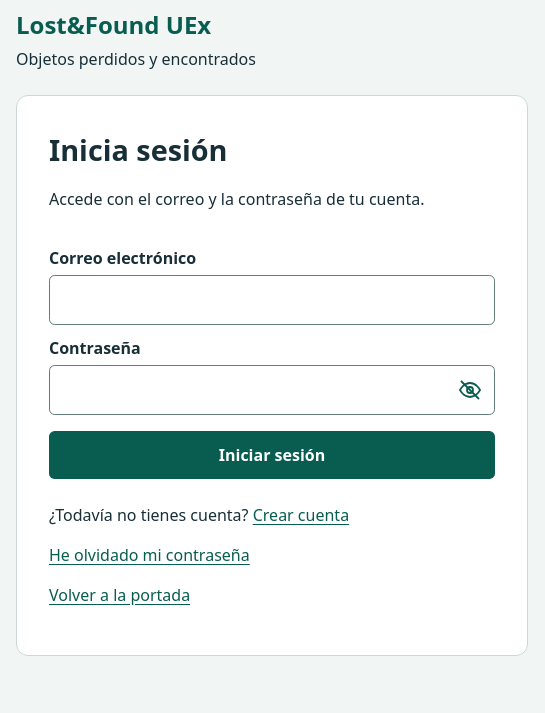
Test: controla HTTP 400 sin mostrar detalles internos
Type "TEST@example.com" into the field labelled "Correo electrónico".
click(272, 300); type("TEST@example.com")  # box left=49, top=275, right=495, bottom=325
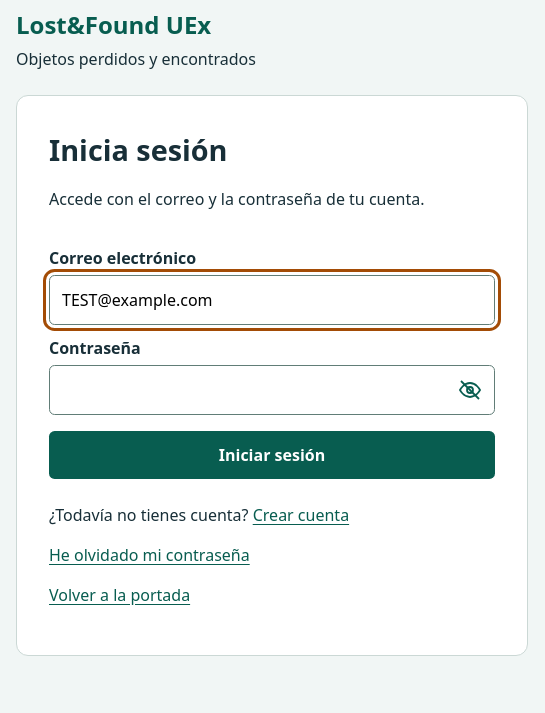
Type "Prueba1234" into the password field labelled "Contraseña".
click(272, 390); type("Prueba1234")  # box left=49, top=365, right=495, bottom=415
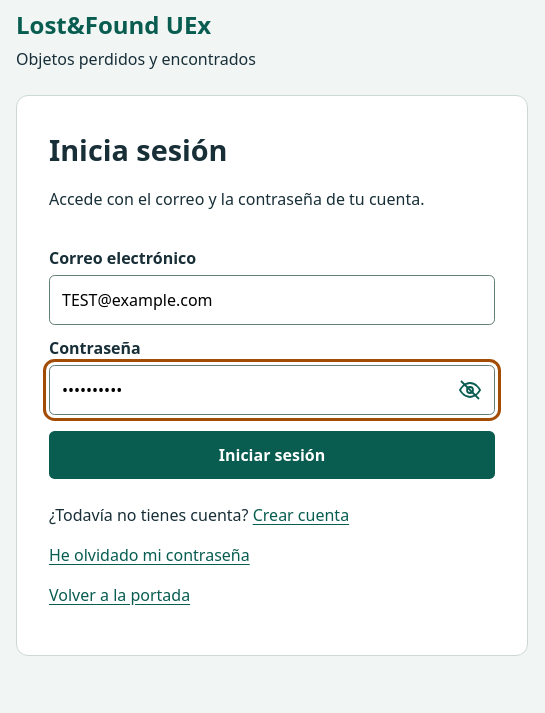
Click the button "Iniciar sesión".
click(272, 455)  # box left=49, top=431, right=495, bottom=479
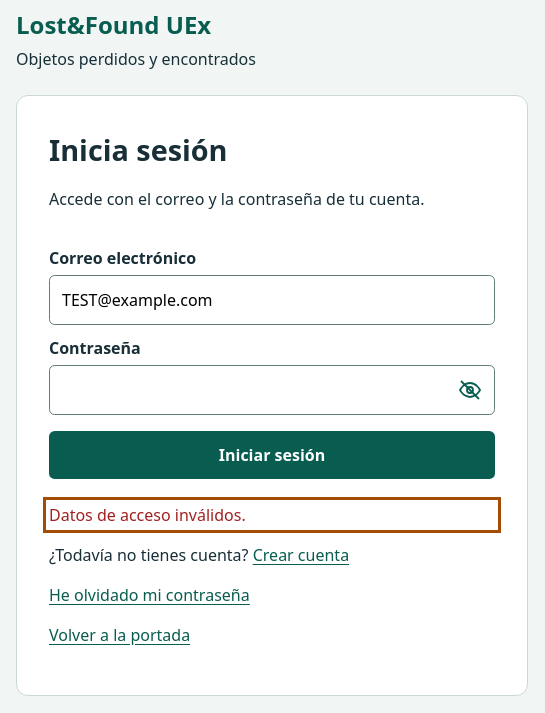
Result: the text "Datos de acceso inválidos." is shown at left=49, top=504, right=246, bottom=526
Result: the password field labelled "Contraseña" is empty at left=49, top=365, right=495, bottom=415
